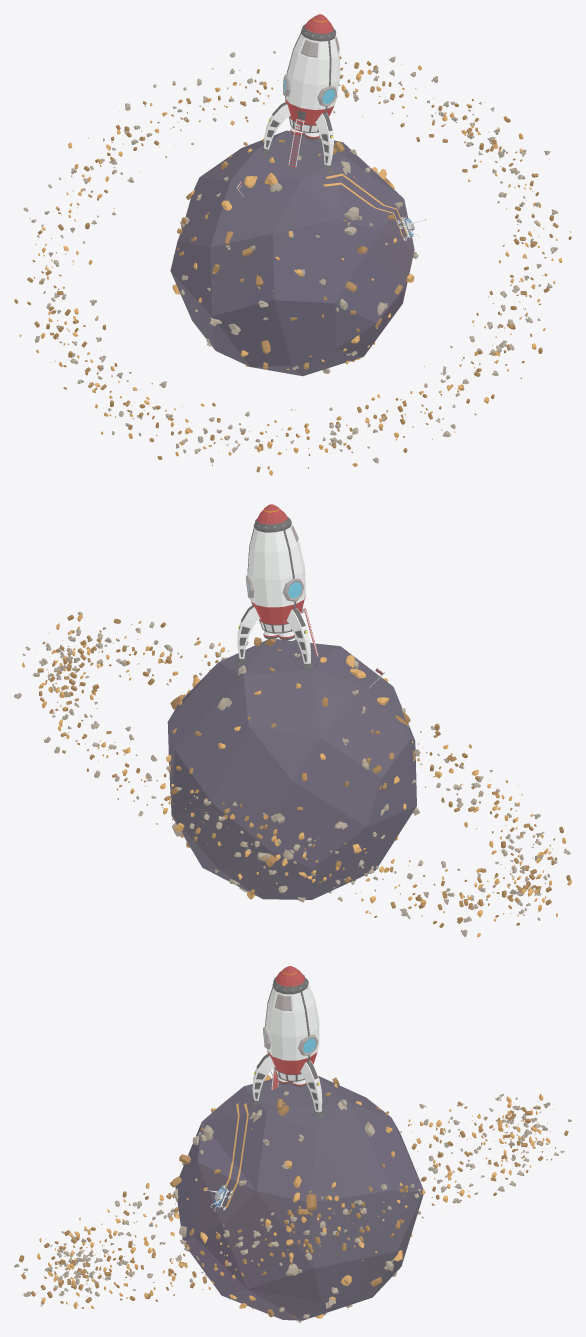
File: space-exploration.glb
3 renders of one model, top to bottom at view 1: azimuth 30°, elevation 25°; view 2: azimuth 150°, elevation 25°; view 3: azimuth 270°, elevation 25°, orthographic. The views are drawn at different scales.
Visible parts, largest first — view 1: planet.001; view 2: planet.001; view 3: planet.001.
Part boxes in pixels (left/top/right/bottom): planet.001: left=14, top=14, right=571, bottom=475; planet.001: left=14, top=504, right=571, bottom=937; planet.001: left=14, top=966, right=571, bottom=1322.
Size of the model in its own units: 30.54 by 22.9 by 31.63.
Materials: 1 (1 with a texture image).
